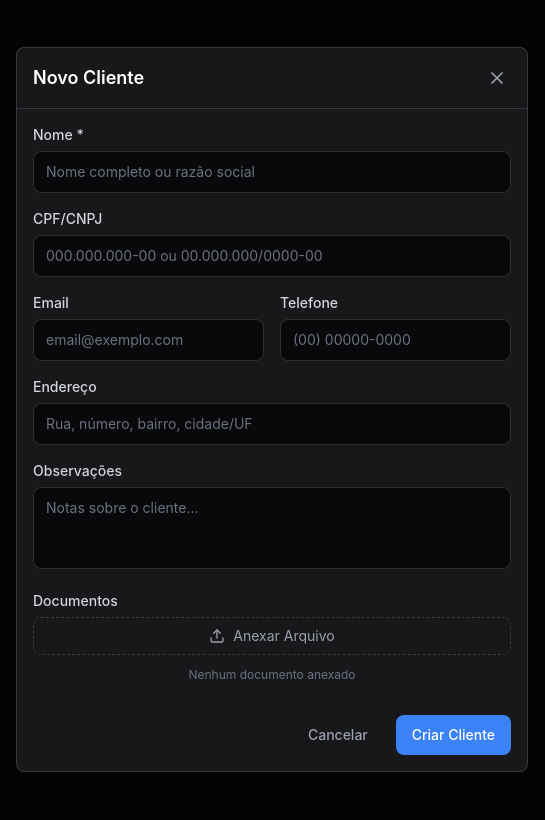
Scenario: ClientForm › Form Validation › should show error when name is empty
This screenshot has width=545, height=820.
Click the button "Criar Cliente".
click(453, 734)  # box top-left (396, 714), bottom-right (511, 754)
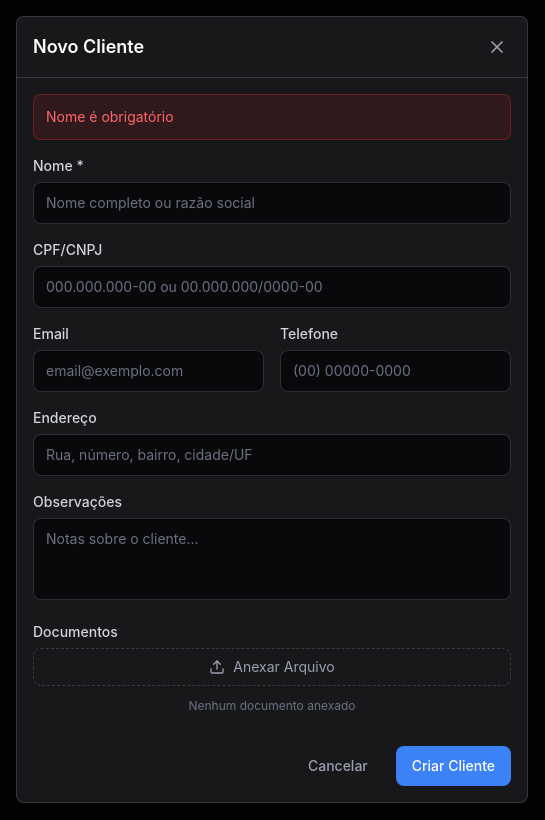
Expected: the text "Nome é obrigatório" is shown, top-left (33, 94), bottom-right (511, 140)
